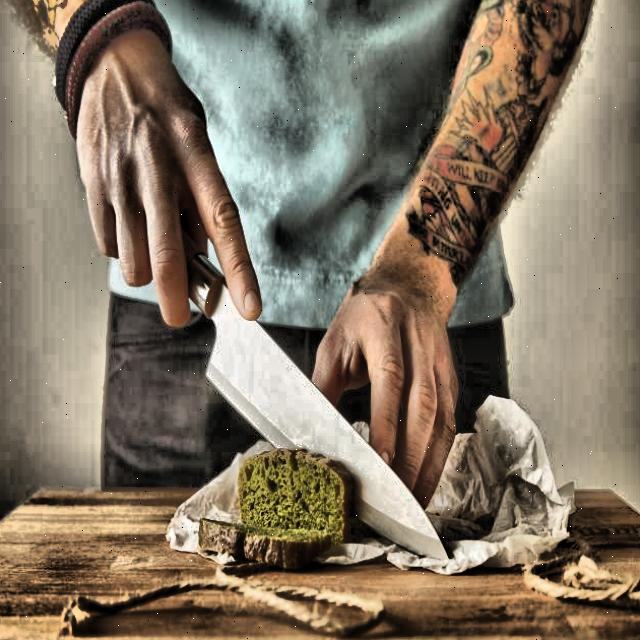knife: (185, 244, 451, 577)
